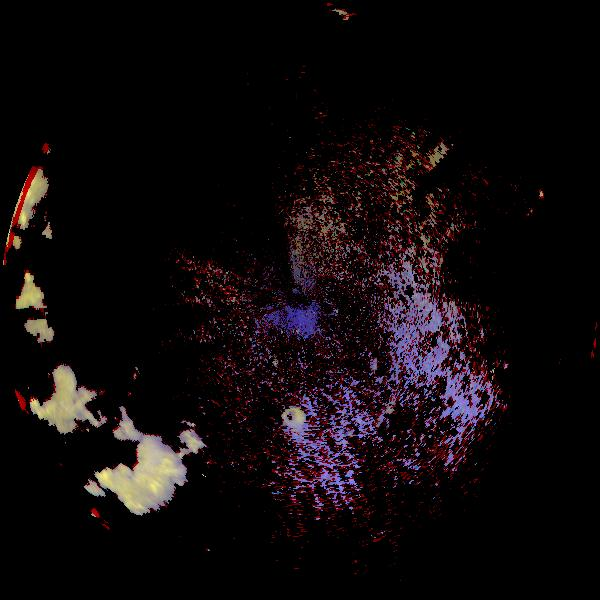roost: (283, 407, 304, 428)
